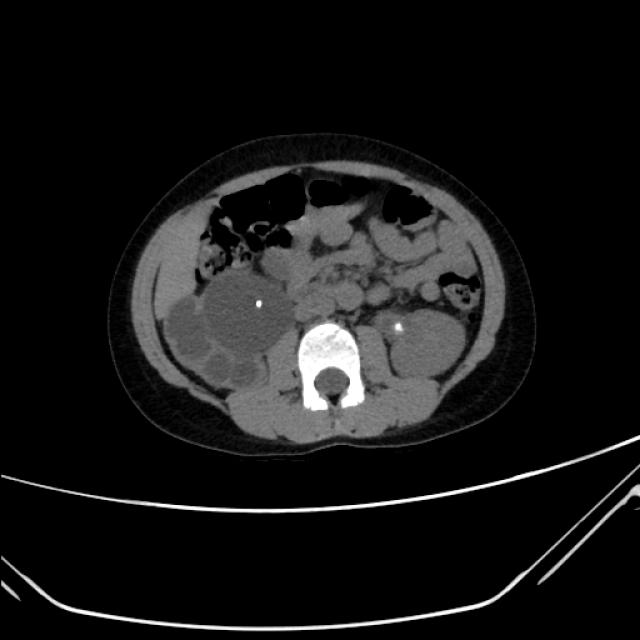kidney: (200, 263, 303, 355), (374, 300, 468, 388)
stone: (392, 318, 406, 334), (253, 294, 266, 310)
